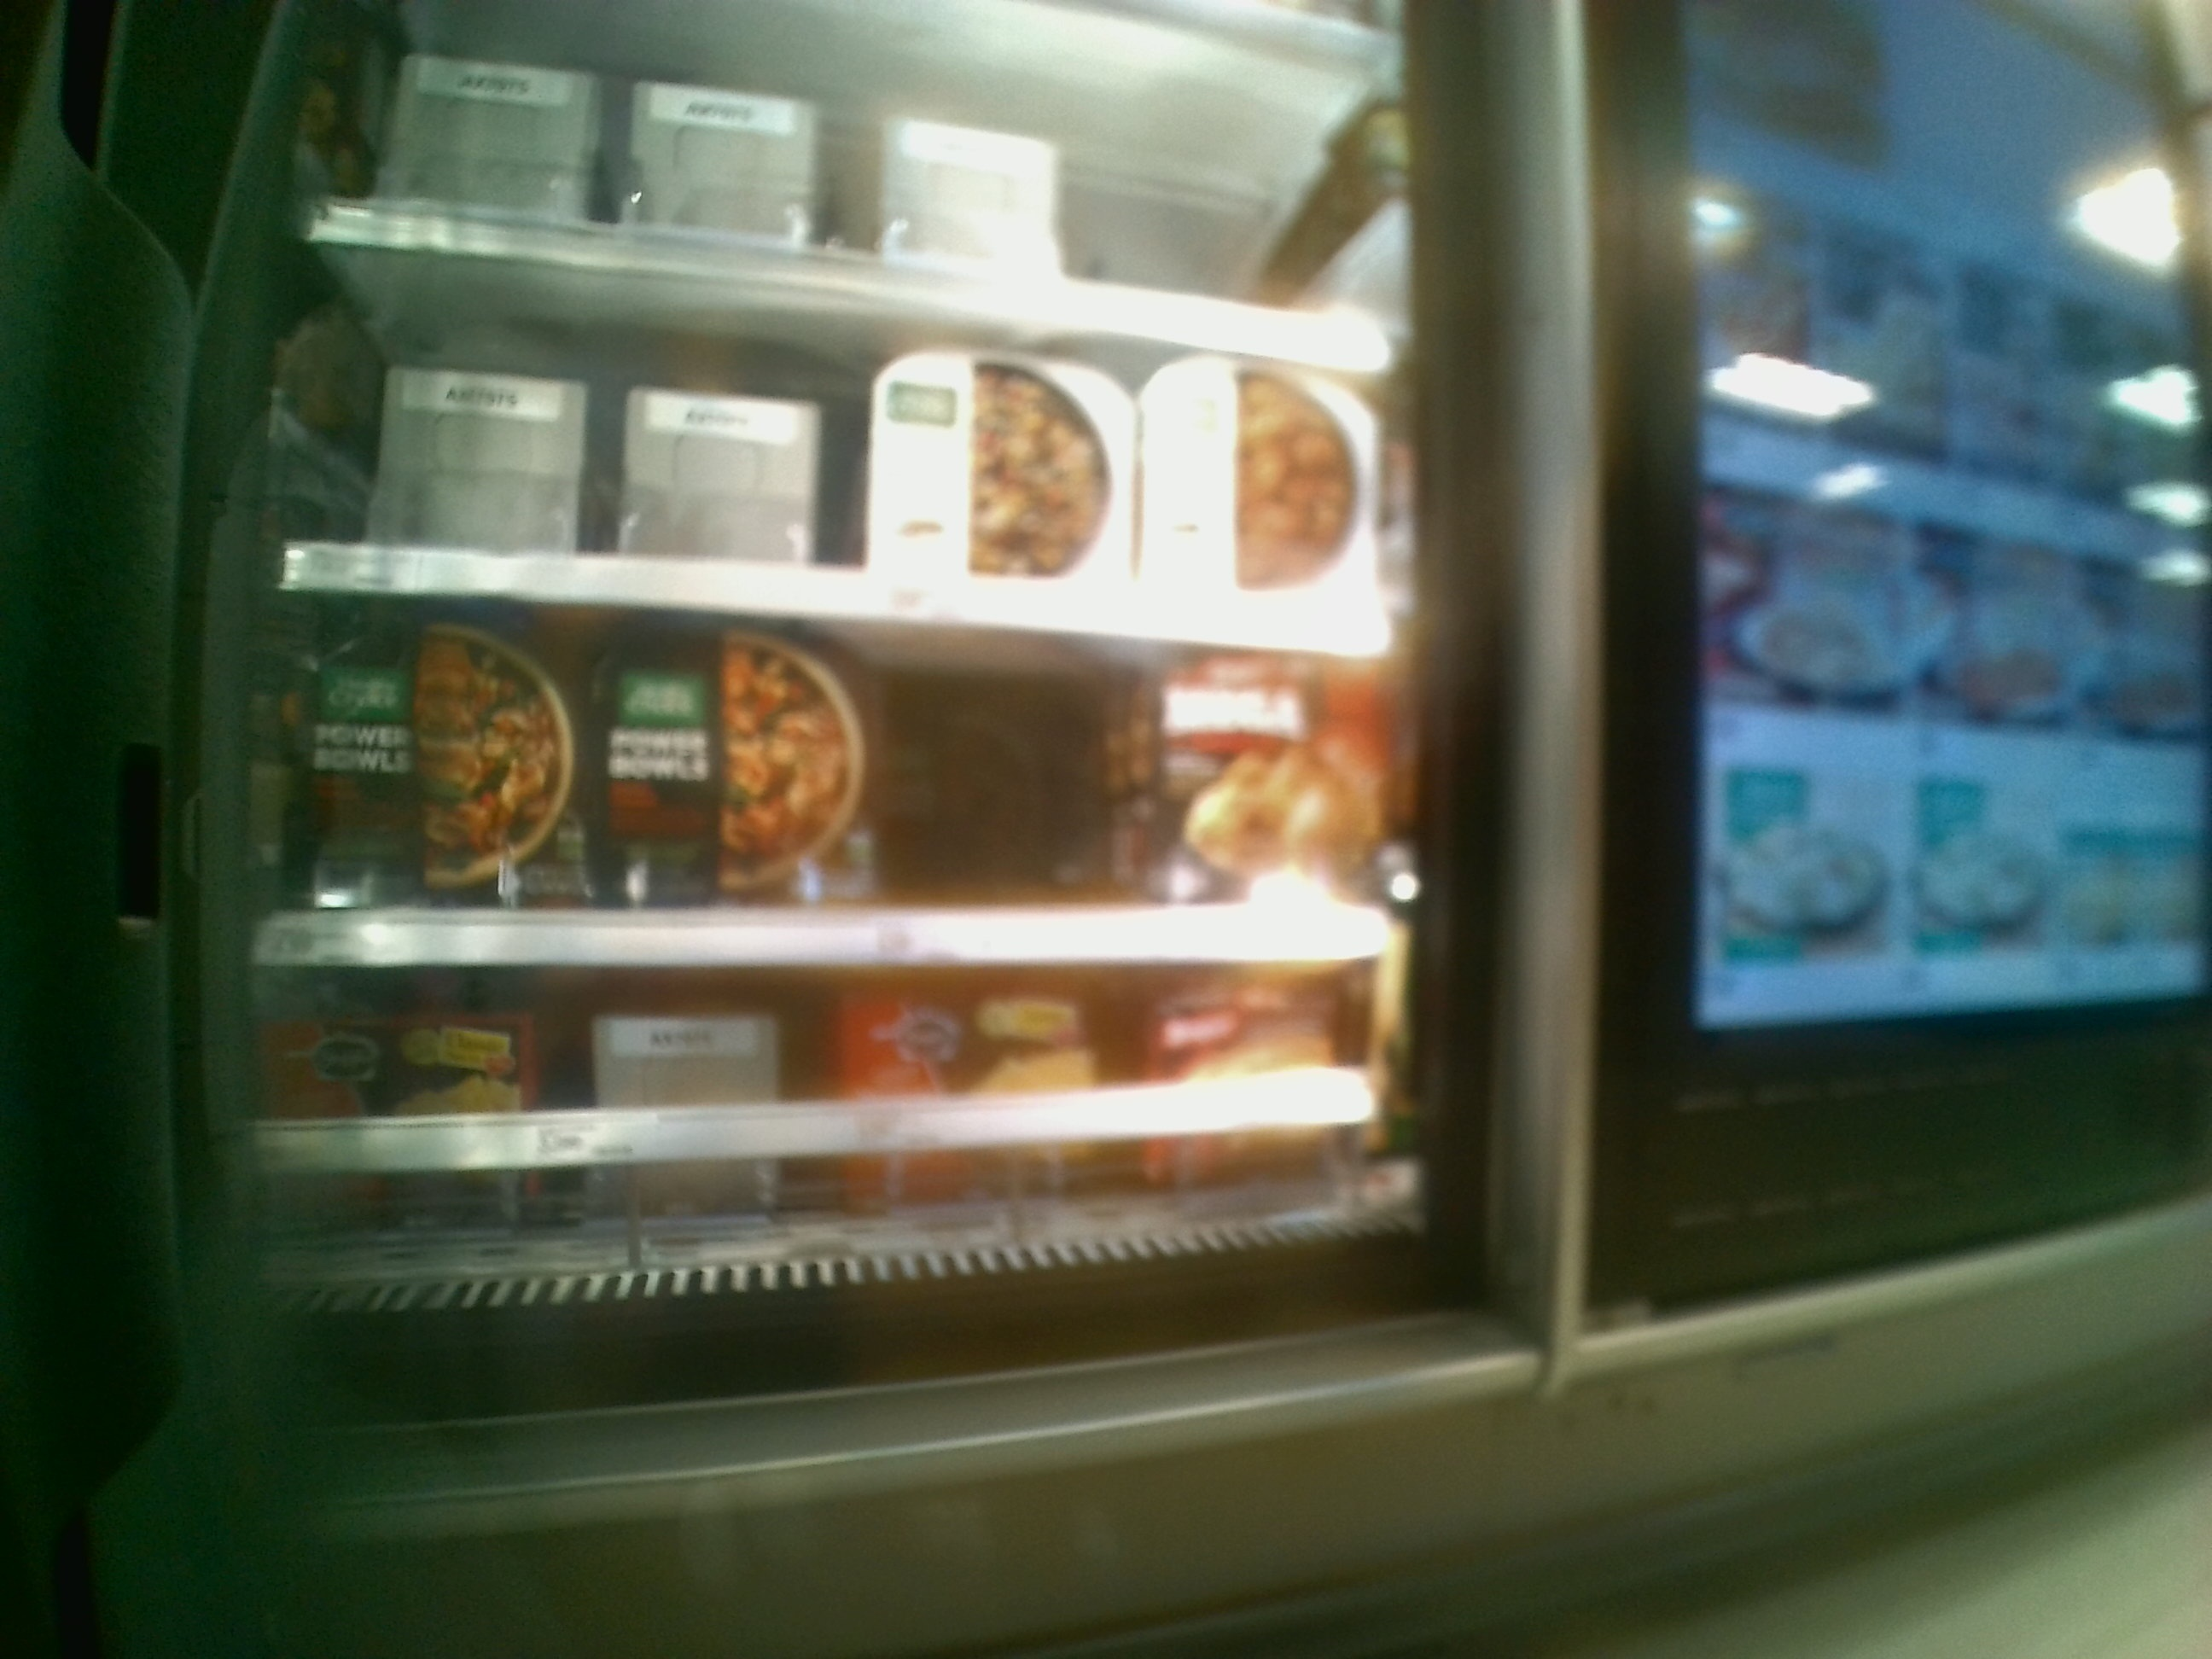Shelf: (294, 242, 1399, 648), (263, 596, 1404, 957), (258, 958, 1439, 1269)
